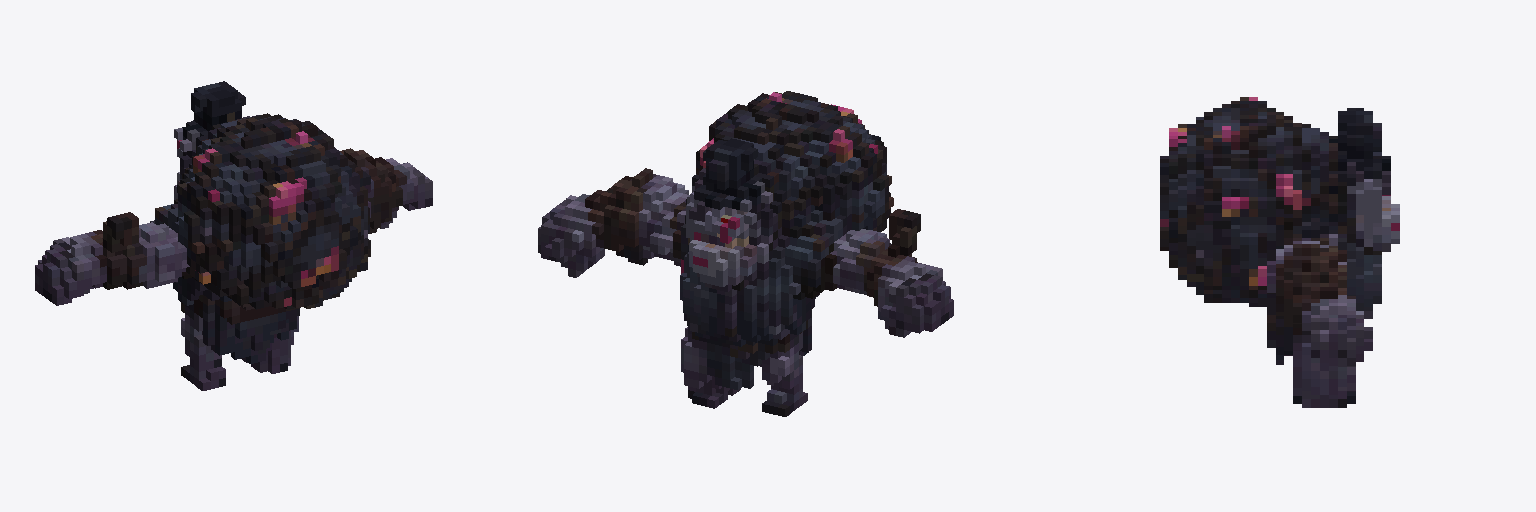
3 renders of one model, left to right at view 1: azimuth 30°, elevation 25°; view 2: azimuth 150°, elevation 25°; view 3: azimuth 270°, elevation 25°, orthographic.
Visible parts, largest first — view 1: object 1; view 2: object 1; view 3: object 1.
Boxes of the visible parts, x1=… form: object 1: x1=35, y1=81, x2=432, y2=390; object 1: x1=538, y1=91, x2=953, y2=416; object 1: x1=1160, y1=97, x2=1399, y2=407.
Bounding box in the file's own units: 5 × 3.4 × 2.7.
Materials: 1 (1 with a texture image).